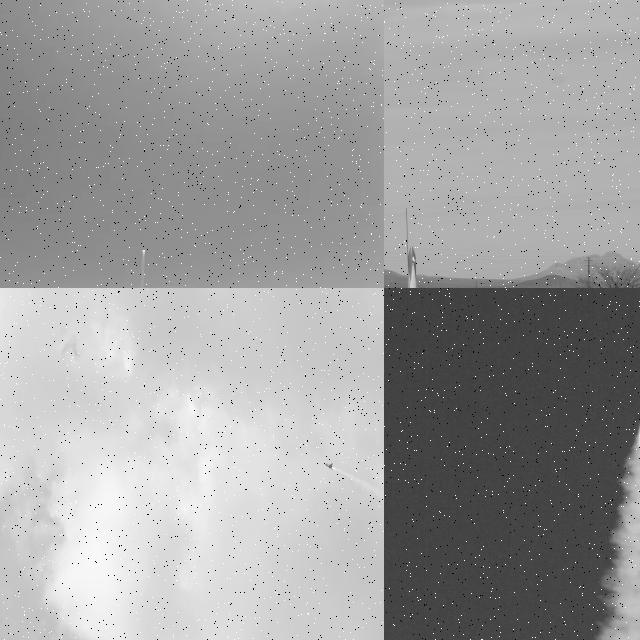Rocket: (397, 245, 425, 288), (631, 353, 640, 422), (324, 462, 333, 471), (142, 246, 146, 251)
